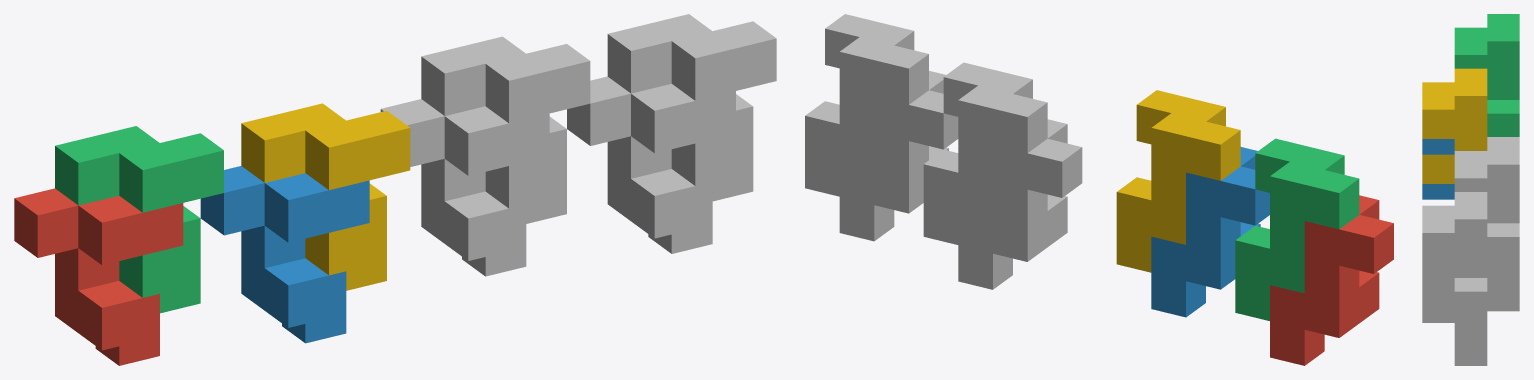
Rendered from tiling.obj.
3 renders of one model, left to right at view 1: azimuth 30°, elevation 25°; view 2: azimuth 150°, elevation 25°; view 3: azimuth 270°, elevation 25°, orthographic. The views are drawn at different scales.
Parts seen in each view (by area): view 1: copy_1_domain_1, copy_1_domain_2, copy_1_domain_6, copy_1_domain_5, copy_1_domain_8, copy_1_domain_4, copy_1_domain_7, copy_1_domain_3; view 2: copy_1_domain_7, copy_1_domain_4, copy_1_domain_8, copy_1_domain_3, copy_1_domain_1, copy_1_domain_5, copy_1_domain_6, copy_1_domain_2; view 3: copy_1_domain_8, copy_1_domain_7, copy_1_domain_4, copy_1_domain_3, copy_1_domain_6, copy_1_domain_2, copy_1_domain_5.
Boxes of the visible parts, box(x1,y1,x2,y2) form: copy_1_domain_1: box(14, 188, 183, 365); copy_1_domain_2: box(200, 166, 369, 343); copy_1_domain_6: box(567, 76, 735, 253); copy_1_domain_5: box(380, 99, 549, 276); copy_1_domain_8: box(607, 14, 776, 201); copy_1_domain_4: box(241, 103, 410, 290); copy_1_domain_7: box(421, 36, 590, 223); copy_1_domain_3: box(55, 126, 223, 313); copy_1_domain_7: box(923, 62, 1047, 244); copy_1_domain_4: box(1116, 90, 1240, 272); copy_1_domain_8: box(805, 14, 928, 196); copy_1_domain_3: box(1235, 138, 1359, 320); copy_1_domain_1: box(1270, 195, 1393, 365); copy_1_domain_5: box(958, 119, 1082, 289); copy_1_domain_6: box(839, 71, 958, 241); copy_1_domain_2: box(1151, 147, 1269, 317); copy_1_domain_8: box(1422, 192, 1487, 350); copy_1_domain_7: box(1454, 137, 1519, 295); copy_1_domain_4: box(1422, 68, 1487, 183); copy_1_domain_3: box(1454, 14, 1519, 136); copy_1_domain_6: box(1422, 262, 1487, 365); copy_1_domain_2: box(1422, 139, 1454, 199); copy_1_domain_5: box(1487, 295, 1519, 311).
Size of the model in its own units: 17 by 5 by 3.
